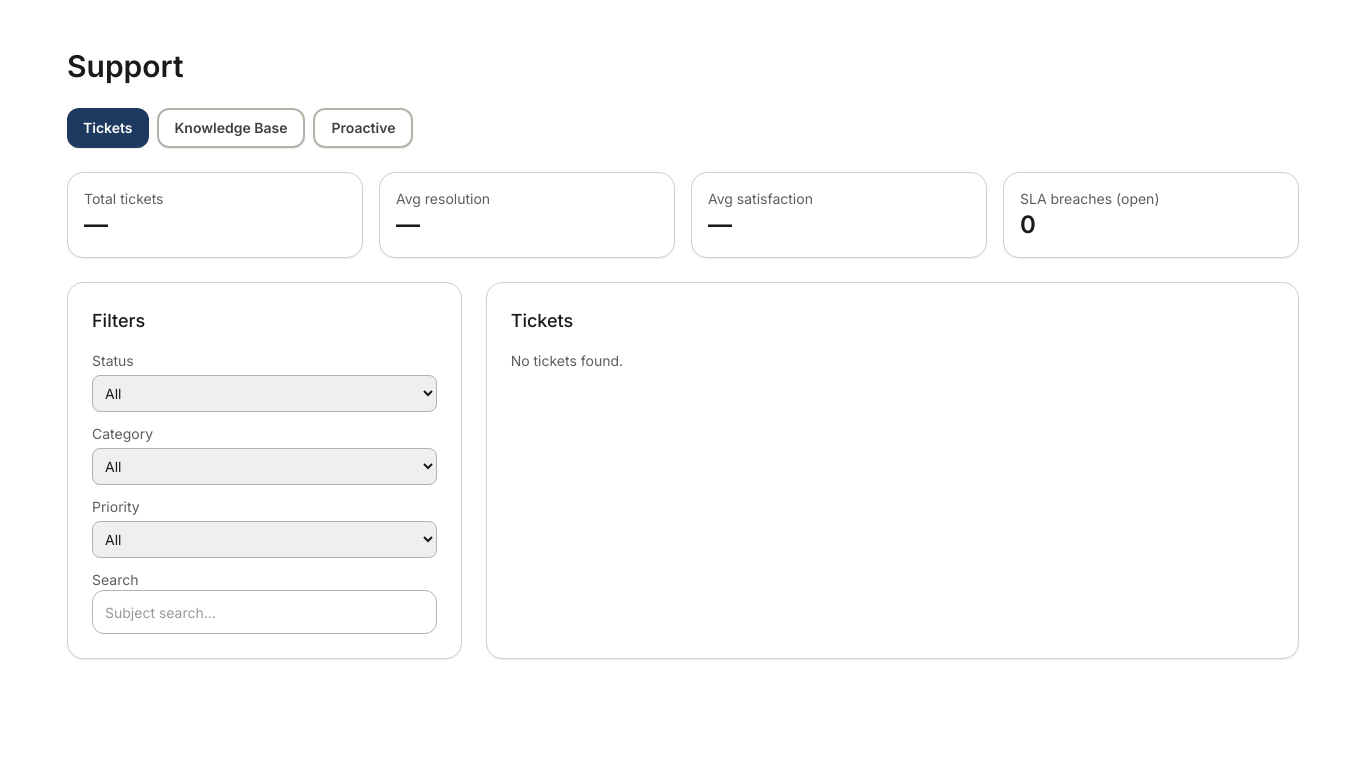
Test: SupportDashboard › shows an informative empty state on the Proactive tab when the API is missing
The width and height of the screenshot is (1366, 768).
Click the tab "Proactive". click: click(364, 128)
box: [314,108,414,148]
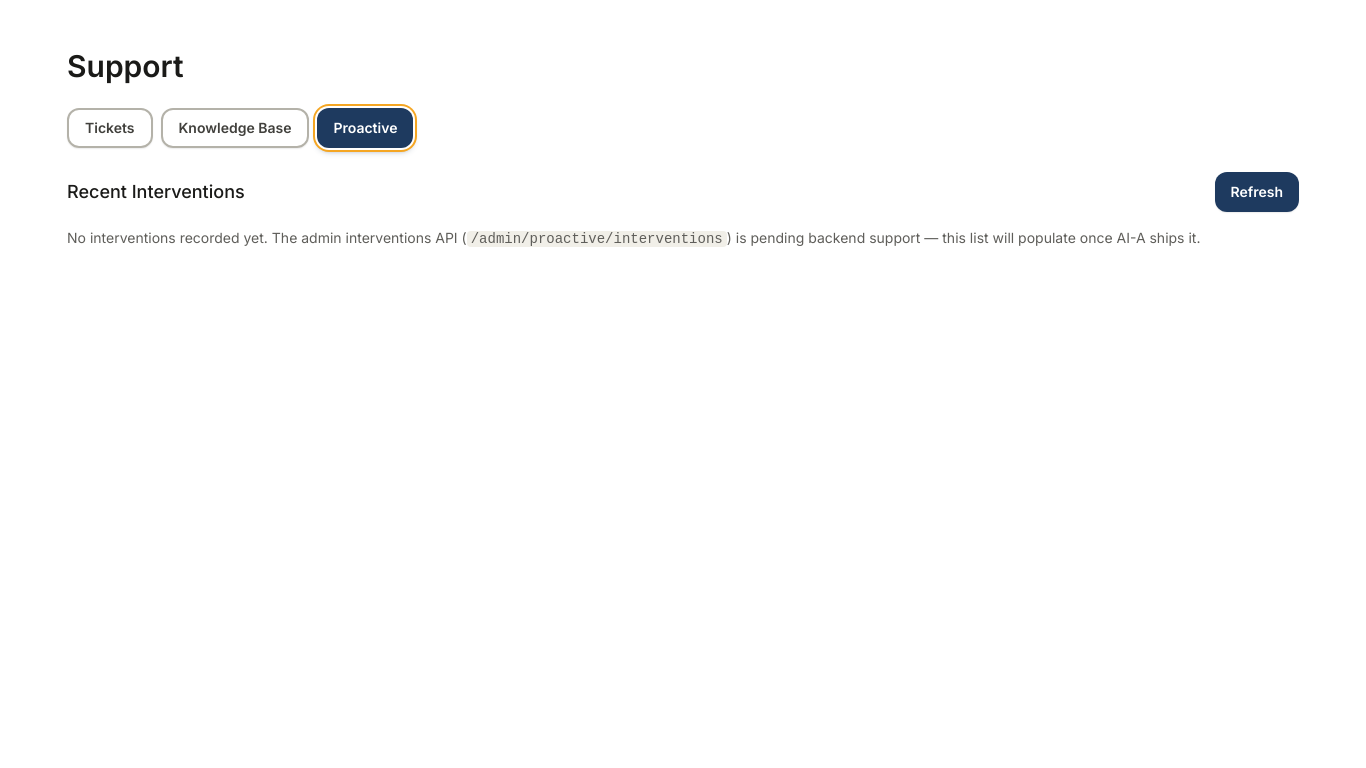
Expected: the text "No interventions recorded yet" is shown, [67,229,467,246]
